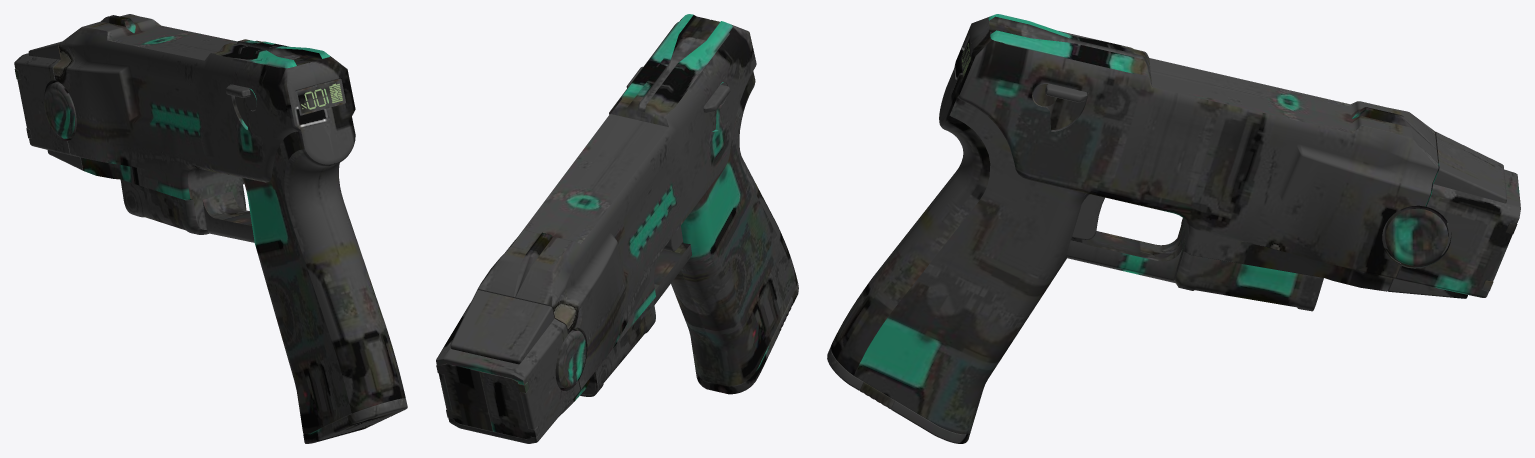
The model's file is p_taser.glb.
3 renders of one model, left to right at view 1: azimuth 30°, elevation 25°; view 2: azimuth 150°, elevation 25°; view 3: azimuth 270°, elevation 25°, orthographic. The views are drawn at different scales.
Visible parts, largest first — view 1: p_taser; view 2: p_taser; view 3: p_taser.
Part boxes in pixels (bbox=[...]): p_taser: bbox=[14, 14, 407, 443]; p_taser: bbox=[436, 14, 798, 443]; p_taser: bbox=[827, 14, 1520, 443].
Size of the model in its own units: 0.0629 by 0.2205 by 0.3376.
2 materials, 2 textured.
